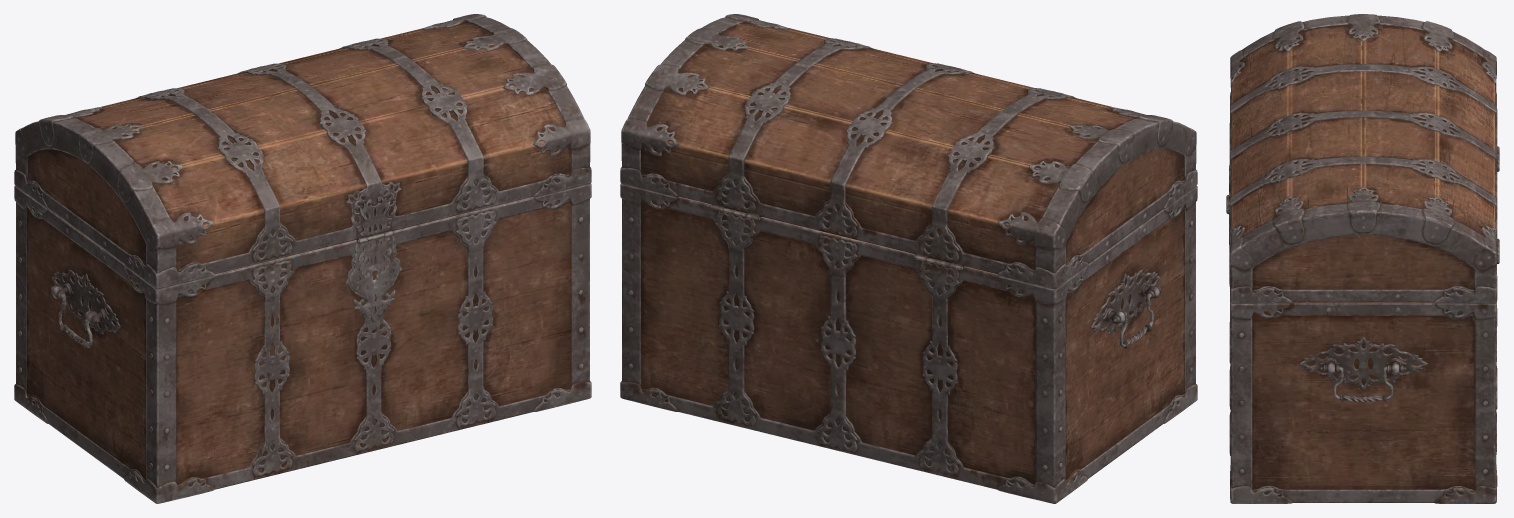
Rendered from treasure_chest.glb.
3 views of the same model, side by side, from view 1: azimuth 30°, elevation 25°; view 2: azimuth 150°, elevation 25°; view 3: azimuth 270°, elevation 25° (orthographic). The views are drawn at different scales.
Parts seen in each view (by area): view 1: treasure_chest_bottom, treasure_chest_lid, treasure_chest_lock; view 2: treasure_chest_bottom, treasure_chest_lid; view 3: treasure_chest_lid, treasure_chest_bottom, treasure_chest_handle_right.
Part boxes in pixels (x1=…): treasure_chest_bottom: x1=14, y1=183, x2=591, y2=503; treasure_chest_lid: x1=14, y1=14, x2=591, y2=288; treasure_chest_lock: x1=349, y1=233, x2=399, y2=322; treasure_chest_bottom: x1=620, y1=183, x2=1197, y2=503; treasure_chest_lid: x1=620, y1=14, x2=1197, y2=288; treasure_chest_lid: x1=1226, y1=14, x2=1499, y2=303; treasure_chest_bottom: x1=1229, y1=152, x2=1499, y2=503; treasure_chest_handle_right: x1=1320, y1=365, x2=1406, y2=402.
Size of the model in its own units: 0.959 by 0.6189 by 0.5229.
Materials: 1 (1 with a texture image).
